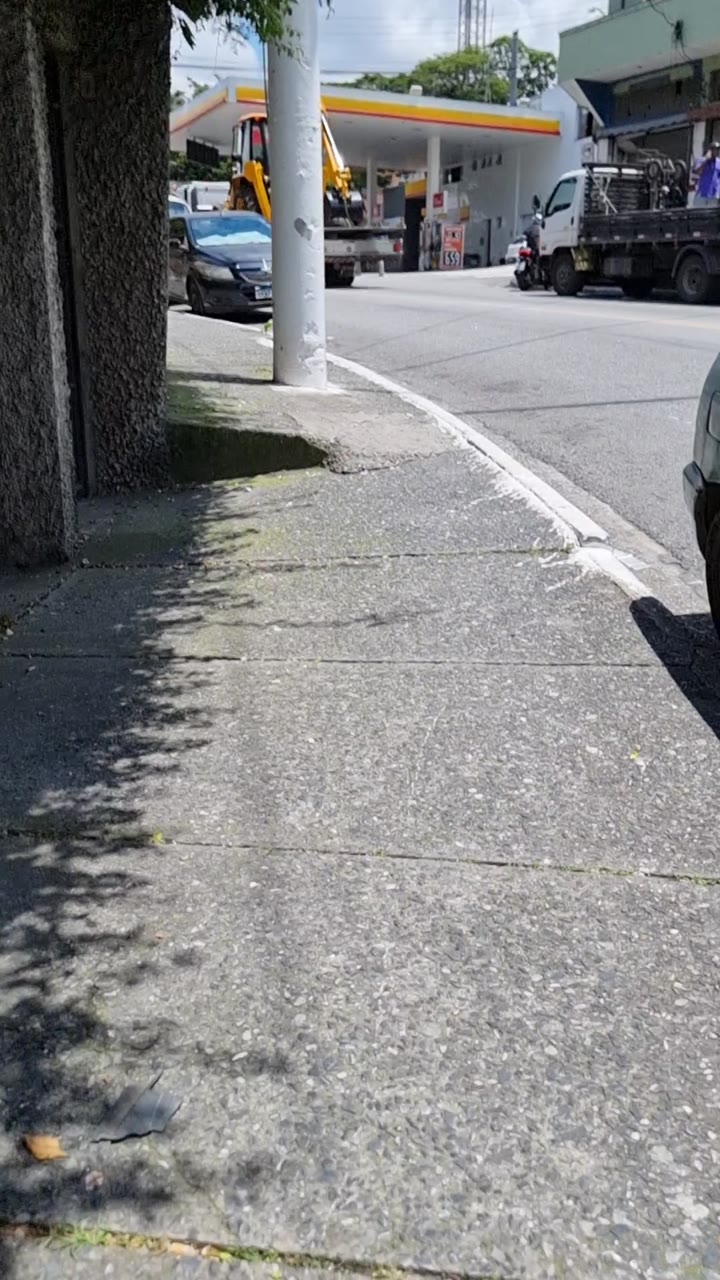obstaculo: (58, 0, 173, 512), (266, 77, 324, 512)
